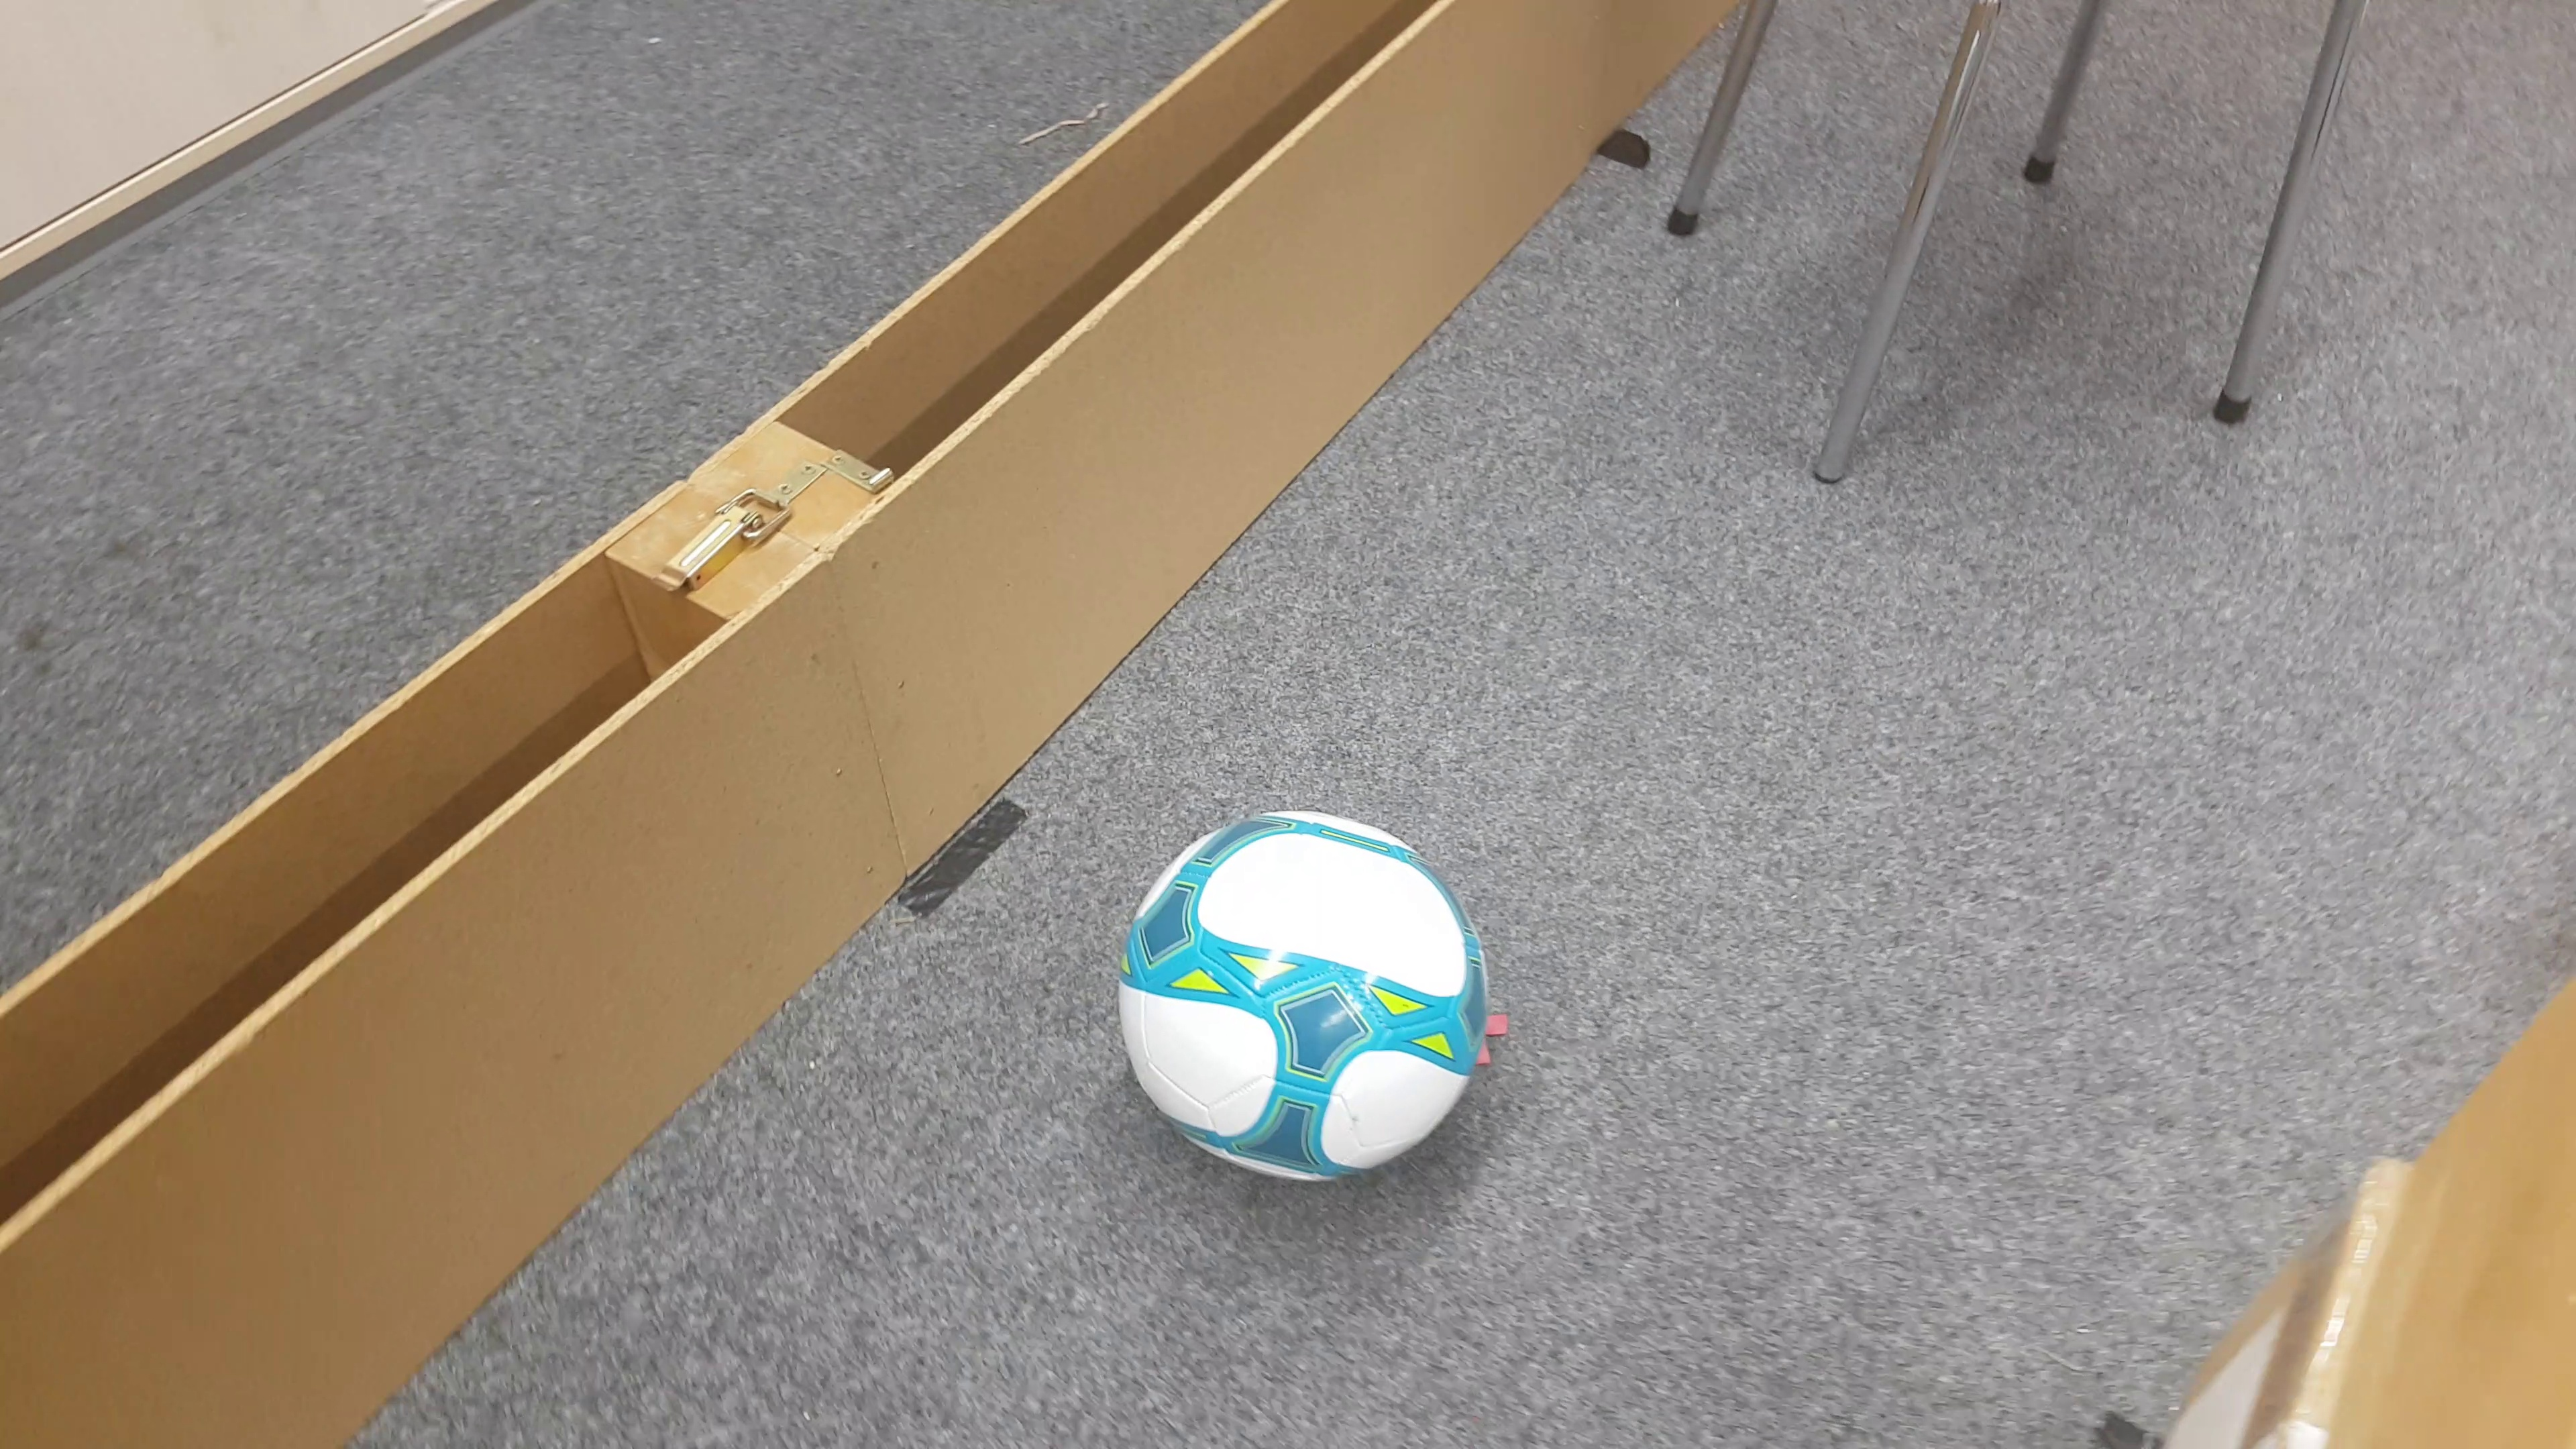kick: (1116, 809, 1495, 1198)
